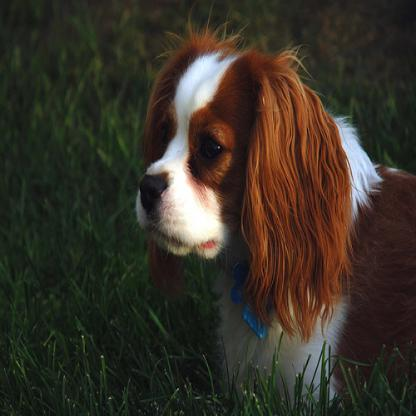dog: (134, 0, 414, 414)
